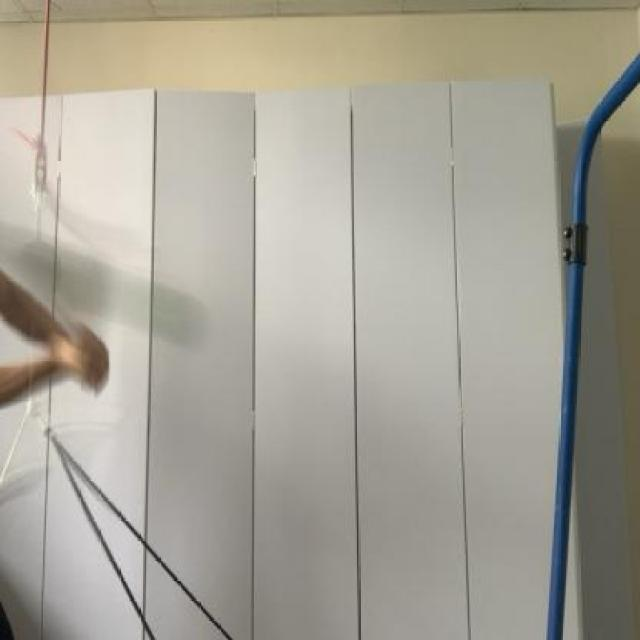baseball: (0, 204, 218, 358)
